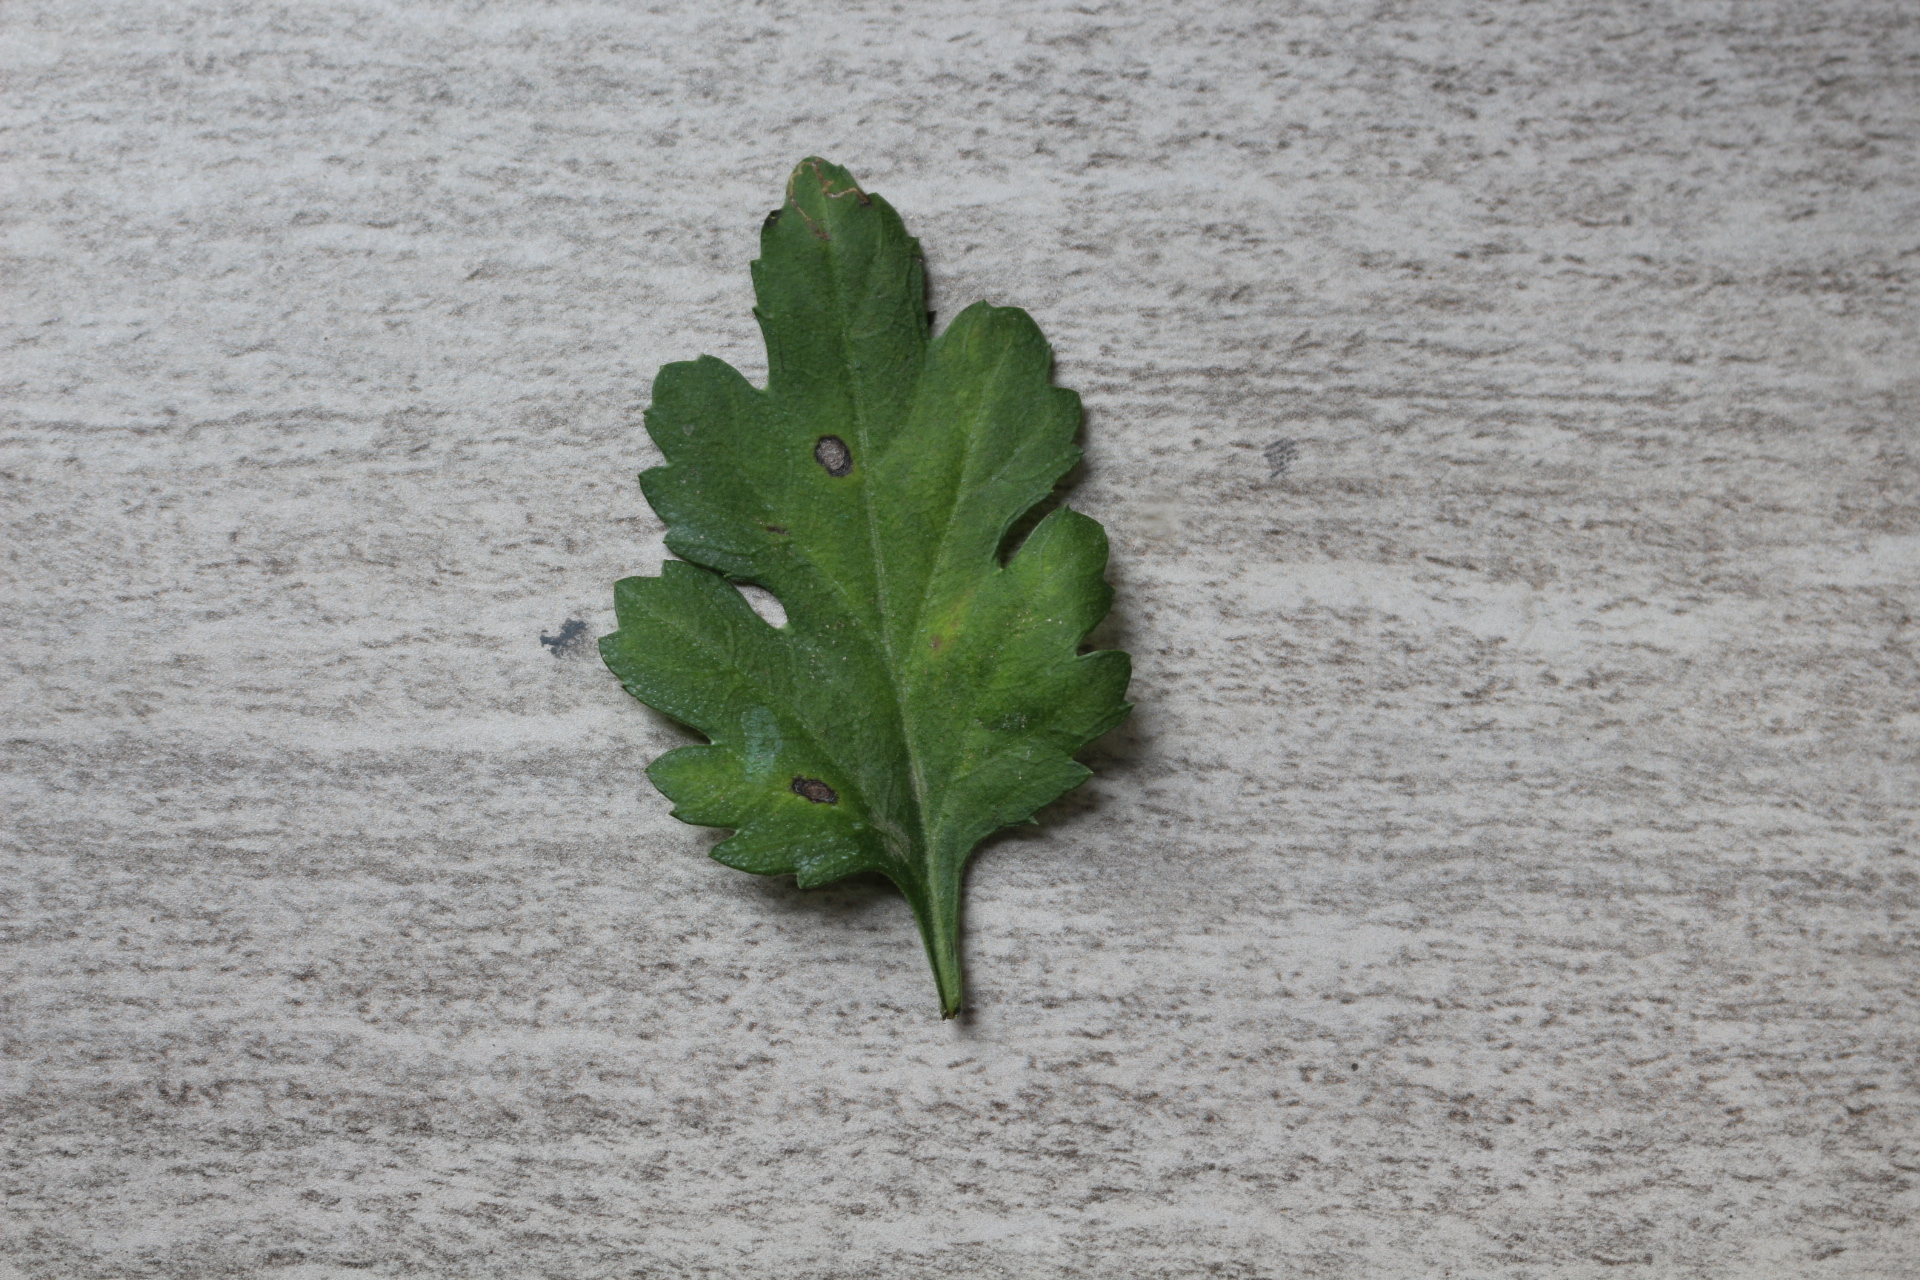namden: (783, 774, 846, 814), (809, 431, 860, 477)
